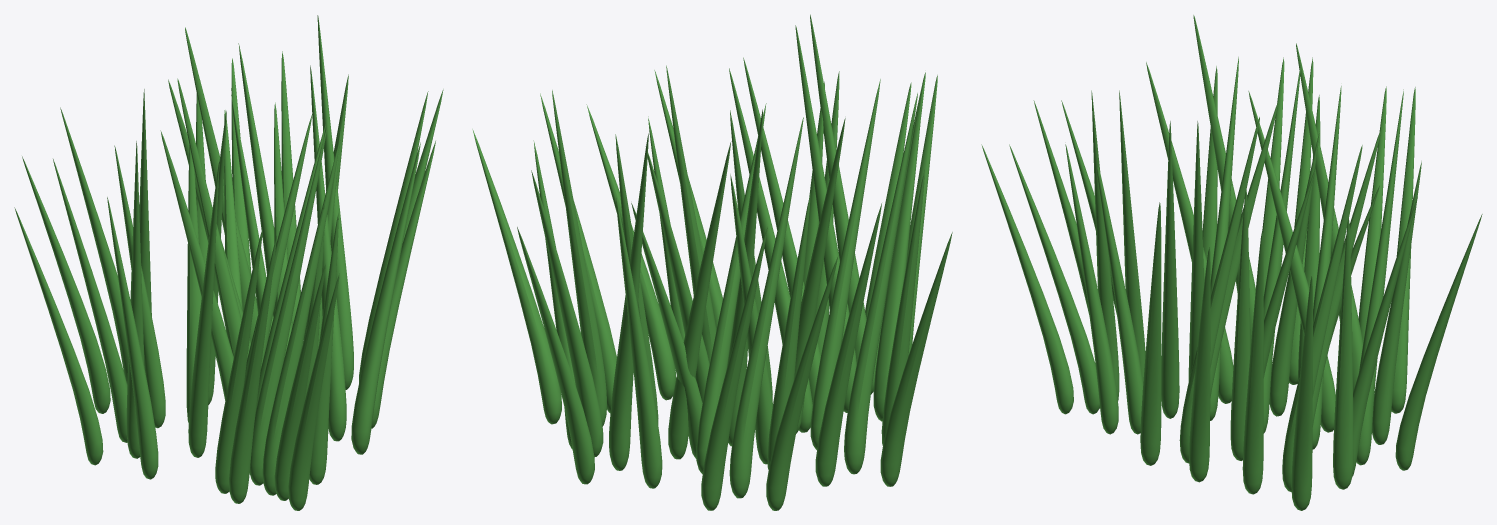
File: Grass 4.fbx
The picture shows the model from 3 angles, left to right: view 1: azimuth 30°, elevation 25°; view 2: azimuth 150°, elevation 25°; view 3: azimuth 270°, elevation 25°; orthographic projection. The views are drawn at different scales.
Parts seen in each view (by area): view 1: Cube, Cube_1_3, Cube_9, Cube_8, Cube_1_9, Cube_1_8, Cube_2_6, Cube_11, Cube_1_7, Cube_2_9, Cube_2_5, Cube_5 (+23 smaller); view 2: Cube, Cube_7, Cube_15, Cube_8, Cube_13, Cube_1_14, Cube_1_7, Cube_1_15, Cube_2_7, Cube_14, Cube_16, Cube_11 (+22 smaller); view 3: Cube, Cube_1_12, Cube_1_3, Cube_1_11, Cube_10, Cube_1_10, Cube_1_4, Cube_2_3, Cube_1_14, Cube_2_7, Cube_2_6, Cube_2_8 (+22 smaller).
Boxes of the visible parts, x1,y1,x2,y2 form: Cube: (215,65,346,500); Cube_1_3: (351,142,420,454); Cube_9: (262,140,340,495); Cube_8: (188,162,219,457); Cube_1_9: (229,239,276,503); Cube_1_8: (107,197,158,479); Cube_2_6: (288,273,339,510); Cube_11: (317,15,353,389); Cube_1_7: (53,159,127,442); Cube_2_9: (22,156,110,413); Cube_2_5: (14,207,103,465); Cube_5: (177,78,248,357); Cube: (666,25,923,432); Cube_7: (844,93,917,474); Cube_15: (729,117,803,498); Cube_8: (810,79,880,449); Cube_13: (609,133,648,470); Cube_1_14: (616,198,662,488); Cube_1_7: (815,203,881,486); Cube_1_15: (701,227,767,510); Cube_2_7: (472,129,561,424); Cube_14: (668,141,731,459); Cube_16: (696,103,766,473); Cube_11: (552,90,606,426); Cube: (1009,90,1259,463); Cube_1_12: (1333,218,1353,489); Cube_1_3: (1140,202,1161,465); Cube_1_11: (1242,231,1263,494); Cube_10: (1161,121,1179,418); Cube_1_10: (1065,144,1118,434); Cube_1_4: (1230,189,1250,460); Cube_2_3: (1189,247,1210,482); Cube_1_14: (1372,161,1421,444); Cube_2_7: (1291,276,1312,510); Cube_2_6: (981,144,1073,414); Cube_2_8: (1395,214,1482,470).
Bounding box in the file's own units: 111 × 83.36 × 108.
